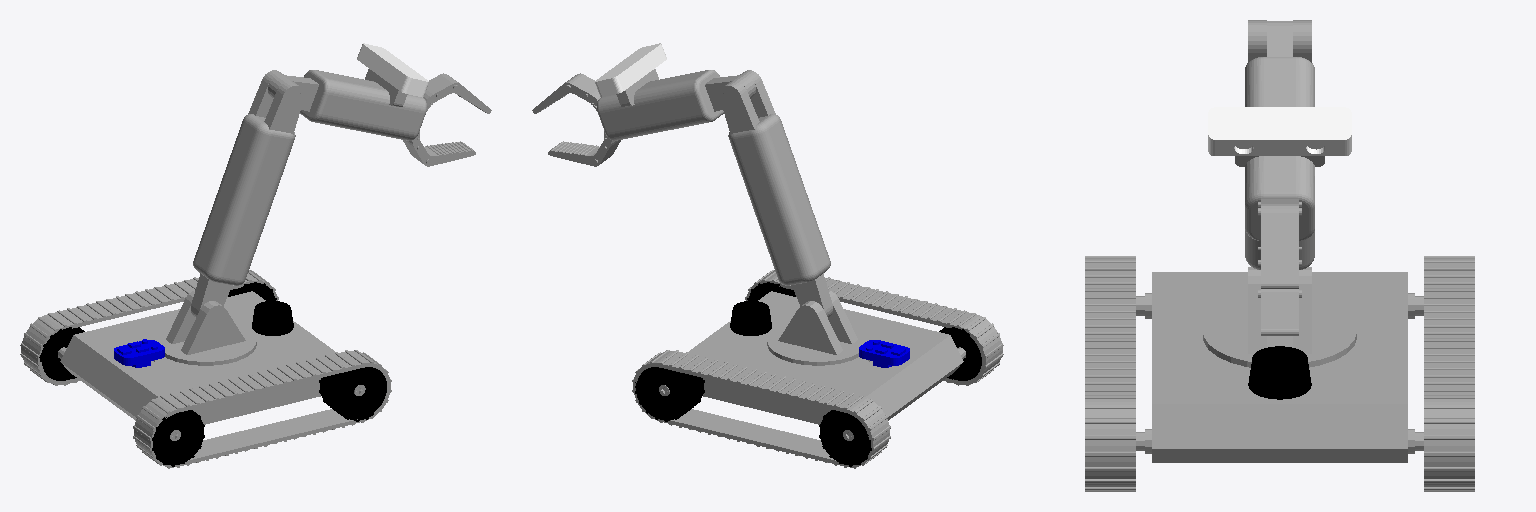
The robot description file, URDF, robot "slam2robot":
<?xml version="1.0" encoding="utf-8"?>
<robot name="slam2robot">

  <!-- Material definitions for RViz -->
  <material name="grey">
    <color rgba="0.7 0.7 0.7 1.0"/>
  </material>
  <material name="black">
    <color rgba="0.0 0.0 0.0 1.0"/>
  </material>
  <material name="white">
    <color rgba="1.0 1.0 1.0 1.0"/>
  </material>
  <material name="blue">
    <color rgba="0.0 0.0 1.0 1.0"/>
  </material>

  <gazebo reference="base_link"><material>Gazebo/Grey</material></gazebo>
  <gazebo reference="wheel1"><material>Gazebo/Black</material></gazebo>
  <gazebo reference="wheel2"><material>Gazebo/Black</material></gazebo>
  <gazebo reference="wheel3"><material>Gazebo/Black</material></gazebo>
  <gazebo reference="wheel4"><material>Gazebo/Black</material></gazebo>
  <gazebo reference="link1"><material>Gazebo/Grey</material></gazebo>
  <gazebo reference="link2"><material>Gazebo/Grey</material></gazebo>
  <gazebo reference="camera"><material>Gazebo/White</material></gazebo>
  <gazebo reference="imu"><material>Gazebo/Blue</material></gazebo>
  <gazebo reference="lidar"><material>Gazebo/Black</material></gazebo>

  <link name="base_link">
    <inertial>
      <origin xyz="0.00014506 0 0.0071913" rpy="0 0 0" />
      <mass value="2.8289" />
      <inertia ixx="0.010256" ixy="0" ixz="0" iyy="0.016675" iyz="0" izz="0.025413" />
    </inertial>
    <visual>
      <geometry><mesh filename="package://slam2robot/meshes/base_link.STL" /></geometry>
      <material name="grey"/>
    </visual>
    <collision>
      <geometry><mesh filename="package://slam2robot/meshes/base_link.STL" /></geometry>
    </collision>
  </link>

  <link name="wheel1">
    <inertial>
      <origin xyz="0 0 0" rpy="0 0 0" />
      <mass value="0.1279" />
      <inertia ixx="6.0677E-05" ixy="0" ixz="0" iyy="6.0677E-05" iyz="0" izz="9.3018E-05" />
    </inertial>
    <visual><geometry><mesh filename="package://slam2robot/meshes/wheel1.STL" /></geometry><material name="black"/></visual>
    <collision>
      <origin xyz="0 0 0" rpy="0 0 0" />
      <geometry><cylinder radius="0.05" length="0.04"/></geometry>
    </collision>
  </link>
  <joint name="w1" type="continuous">
    <origin xyz="0.12464 0.132 0" rpy="1.5708 0 0" />
    <parent link="base_link" /><child link="wheel1" /><axis xyz="0 0 -1" />
  </joint>

  <link name="wheel2">
    <inertial>
      <origin xyz="0 0 0" rpy="0 0 0" />
      <mass value="0.1279" />
      <inertia ixx="6.0677E-05" ixy="0" ixz="0" iyy="6.0677E-05" iyz="0" izz="9.3018E-05" />
    </inertial>
    <visual><geometry><mesh filename="package://slam2robot/meshes/wheel2.STL" /></geometry><material name="black"/></visual>
    <collision>
      <origin xyz="0 0 0" rpy="0 0 0" />
      <geometry><cylinder radius="0.05" length="0.04"/></geometry>
    </collision>
  </link>
  <joint name="w2" type="continuous">
    <origin xyz="-0.12464 0.132 0" rpy="1.5708 0 0" />
    <parent link="base_link" /><child link="wheel2" /><axis xyz="0 0 -1" />
  </joint>

  <link name="wheel3">
    <inertial>
      <origin xyz="0 0 0" rpy="0 0 0" />
      <mass value="0.1279" />
      <inertia ixx="6.0677E-05" ixy="0" ixz="0" iyy="6.0677E-05" iyz="0" izz="9.3018E-05" />
    </inertial>
    <visual><geometry><mesh filename="package://slam2robot/meshes/wheel3.STL" /></geometry><material name="black"/></visual>
    <collision>
      <origin xyz="0 0 0" rpy="0 0 0" />
      <geometry><cylinder radius="0.05" length="0.04"/></geometry>
    </collision>
  </link>
  <joint name="w3" type="continuous">
    <origin xyz="0.12464 -0.132 0" rpy="1.5708 0 3.1416" />
    <parent link="base_link" /><child link="wheel3" /><axis xyz="0 0 1" />
  </joint>

  <link name="wheel4">
    <inertial>
      <origin xyz="0 0 0" rpy="0 0 0" />
      <mass value="0.1279" />
      <inertia ixx="6.0677E-05" ixy="0" ixz="0" iyy="6.0677E-05" iyz="0" izz="9.3018E-05" />
    </inertial>
    <visual><geometry><mesh filename="package://slam2robot/meshes/wheel4.STL" /></geometry><material name="black"/></visual>
    <collision>
      <origin xyz="0 0 0" rpy="0 0 0" />
      <geometry><cylinder radius="0.05" length="0.04"/></geometry>
    </collision>
  </link>
  <joint name="w4" type="continuous">
    <origin xyz="-0.12464 -0.132 0" rpy="1.5708 0 3.1416" />
    <parent link="base_link" /><child link="wheel4" /><axis xyz="0 0 1" />
  </joint>

  <link name="track1"><visual><geometry><mesh filename="package://slam2robot/meshes/track1.STL" /></geometry><material name="grey"/></visual></link>
  <joint name="t1" type="fixed"><origin xyz="0.00035 0.132 0" rpy="0 0 0" /><parent link="base_link" /><child link="track1" /></joint>

  <link name="track2"><visual><geometry><mesh filename="package://slam2robot/meshes/track2.STL" /></geometry><material name="grey"/></visual></link>
  <joint name="t2" type="fixed"><origin xyz="0.00035 -0.132 0" rpy="0 0 0" /><parent link="base_link" /><child link="track2" /></joint>

  <link name="link1">
    <inertial>
      <origin xyz="0.13921 0 0" rpy="0 0 0" />
      <mass value="0.65479" />
      <inertia ixx="0.000283" ixy="0" ixz="0" iyy="0.00334" iyz="0" izz="0.00333" />
    </inertial>
    <visual><geometry><mesh filename="package://slam2robot/meshes/link1.STL" /></geometry><material name="grey"/></visual>
    <collision><geometry><mesh filename="package://slam2robot/meshes/link1.STL" /></geometry></collision>
  </link>
  <joint name="l1" type="revolute">
    <origin xyz="0 0 0.075717" rpy="1.5708 -1.189 0" />
    <parent link="base_link" />
    <child link="link1" />
    <axis xyz="0 0 1" />
    <limit lower="-0.4" upper="1.57" effort="15" velocity="3" />
    <dynamics damping="1.0" friction="1.0"/>
  </joint>

  <link name="link2">
    <inertial>
      <origin xyz="0.12402 -0.00411 0" rpy="0 0 0" />
      <mass value="0.56752" />
      <inertia ixx="0.00030" ixy="0" ixz="0" iyy="0.00242" iyz="0" izz="0.00250" />
    </inertial>
    <visual><geometry><mesh filename="package://slam2robot/meshes/link2.STL" /></geometry><material name="grey"/></visual>
    <collision><geometry><mesh filename="package://slam2robot/meshes/link2.STL" /></geometry></collision>
  </link>
  <joint name="l2" type="revolute">
    <origin xyz="0.28 0 0" rpy="0 0 -1.5708" />
    <parent link="link1" />
    <child link="link2" />
    <axis xyz="0 0 1" />
    <limit lower="-0.4" upper="1.57" effort="20" velocity="2" />
    <dynamics damping="8.0" friction="1.0"/> 
  </joint>

  <link name="camera">
    <inertial>
      <origin xyz="0 0 0" rpy="0 0 0" /><mass value="0.073" />
      <inertia ixx="8.20E-05" ixy="0" ixz="0" iyy="8.96E-06" iyz="0" izz="7.81E-05" />
    </inertial>
    <visual><geometry><mesh filename="package://slam2robot/meshes/camera.STL" /></geometry><material name="white"/></visual>
    <collision><geometry><mesh filename="package://slam2robot/meshes/camera.STL" /></geometry></collision>
  </link>
  <joint name="cam_joint" type="fixed">
    <origin xyz="0.14207 0.046599 0" rpy="-1.5708 0 -1.6126" /><parent link="link2" /><child link="camera" />
  </joint>
  <link name="camera_optical"/>
  <joint name="camera_optical_joint" type="fixed">
    <origin xyz="0 0 0" rpy=" 0 -1.5708 0" />
    <parent link="camera" />
    <child link="camera_optical" />
  </joint>

  <link name="imu">
    <inertial>
      <origin xyz="0 0 0" rpy="0 0 0" /><mass value="0.025" />
      <inertia ixx="2.83E-06" ixy="0" ixz="0" iyy="6.05E-06" iyz="0" izz="7.62E-06" />
    </inertial>
    <visual><geometry><mesh filename="package://slam2robot/meshes/imu.STL" /></geometry><material name="blue"/></visual>
    <collision><geometry><mesh filename="package://slam2robot/meshes/imu.STL" /></geometry></collision>
  </link>
  <joint name="imu_joint" type="fixed">
    <origin xyz="-0.090187 0 0.035717" rpy="0 0 0" /><parent link="base_link" /><child link="imu" />
  </joint>

  <link name="lidar">
    <inertial>
      <origin xyz="0 0 0.01" rpy="0 0 0" /><mass value="0.05" />
      <inertia ixx="9.89E-06" ixy="0" ixz="0" iyy="9.89E-06" iyz="0" izz="1.29E-05" />
    </inertial>
    <visual><origin xyz="0 0 -0.02" rpy="0 0 0" /><geometry><mesh filename="package://slam2robot/meshes/lidar.STL" /></geometry><material name="black"/></visual>
    <collision><origin xyz="0 0 -0.02" rpy="0 0 0" /><geometry><mesh filename="package://slam2robot/meshes/lidar.STL" /></geometry></collision>
  </link>
  <joint name="lidar_front_joint" type="fixed">
    <origin xyz="0.090769 0 0.050717" rpy="0 0 0" /><parent link="base_link" /><child link="lidar" />
  </joint>

  <gazebo>
    <plugin name="diff_drive" filename="libgazebo_ros_diff_drive.so">
      <num_wheel_pairs>2</num_wheel_pairs>
      
      <left_joint>w1</left_joint>
      <left_joint>w2</left_joint>
      
      <right_joint>w4</right_joint>
      <right_joint>w3</right_joint>

      <wheel_separation>0.264</wheel_separation>
      <wheel_diameter>0.1</wheel_diameter>
      
      <max_wheel_torque>20</max_wheel_torque>
      <max_wheel_acceleration>1.0</max_wheel_acceleration>
      <publish_odom>true</publish_odom>
      <publish_odom_tf>true</publish_odom_tf>
      <publish_wheel_tf>true</publish_wheel_tf>
      <odometry_frame>odom</odometry_frame>
      <robot_base_frame>base_link</robot_base_frame>
    </plugin>
  </gazebo>

  <gazebo reference="lidar">
    <sensor name="lidar" type="ray">
      <pose>0 0 0.7 0 0 0</pose>
      <always_on>true</always_on>
      <visualize>true</visualize>
      <update_rate>5</update_rate>
      <ray>
        <scan>
          <horizontal>
            <samples>360</samples>
            <resolution>1.000000</resolution>
            <min_angle>0.000000</min_angle>
            <max_angle>6.280000</max_angle>
          </horizontal>
        </scan>
        <range>
          <min>0.120000</min>
          <max>3.5</max>
          <resolution>0.015000</resolution>
        </range>
      </ray>
      <plugin name="scan" filename="libgazebo_ros_ray_sensor.so">
        <ros><remapping>~/out:=scan</remapping></ros>
        <output_type>sensor_msgs/LaserScan</output_type>
        <frame_name>lidar</frame_name>
      </plugin>
    </sensor>
  </gazebo>
  <gazebo reference="camera_optical">
    <sensor name="camera" type="camera">
      <pose>0 0 0 0 0 0</pose>
      <visualize>true</visualize>
      <always_on>true</always_on>
      <update_rate>30.0</update_rate>
      <camera name="head">
        <horizontal_fov>1.3962634</horizontal_fov>
        <image>
          <width>800</width>
          <height>800</height>
          <format>R8G8B8</format>
        </image>
        <clip><near>0.02</near><far>300</far></clip>
      </camera>
      <plugin name="camera_controller" filename="libgazebo_ros_camera.so">
        <cameraName>camera</cameraName>
        <imageTopicName>image_raw</imageTopicName>
        <cameraInfoTopicName>camera_info</cameraInfoTopicName>
        <frameName>camera_optical</frameName>
      </plugin>
    </sensor>
  </gazebo>

  <gazebo reference="imu">
    <sensor name="imu_sensor" type="imu">
      <always_on>true</always_on>
      <update_rate>100</update_rate>
      <plugin name="imu_plugin" filename="libgazebo_ros_imu_sensor.so">
        <ros><remapping>~/out:=imu</remapping></ros>
      </plugin>
    </sensor>
  </gazebo>

  <!-- Joint Trajectory Controller Plugin -->
  <gazebo>
    <plugin name="gazebo_ros_joint_state_publisher" filename="libgazebo_ros_joint_state_publisher.so">
      <update_rate>20</update_rate>
      <joint_name>w1</joint_name>
      <joint_name>w2</joint_name>
      <joint_name>w3</joint_name>
      <joint_name>w4</joint_name>
      <joint_name>l1</joint_name>
      <joint_name>l2</joint_name>
    </plugin>
  </gazebo>

  <gazebo>
    <plugin name="gazebo_ros2_control" filename="libgazebo_ros2_control.so">
      <robotNamespace>/</robotNamespace>
      <parameters>__CONTROLLER_CONFIG_FILE__</parameters>
      <robot_param>robot_description</robot_param>
      <robot_param_node>robot_state_publisher</robot_param_node>
    </plugin>
  </gazebo>

  <!-- ROS 2 Control Configuration -->
  <ros2_control name="GazeboSystem" type="system">
    <hardware>
      <plugin>gazebo_ros2_control/GazeboSystem</plugin>
    </hardware>
    <joint name="l1">
      <command_interface name="position"/>
      <state_interface name="position"/>
      <state_interface name="velocity"/>
    </joint>
    <joint name="l2">
      <command_interface name="position"/>
      <state_interface name="position"/>
      <state_interface name="velocity"/>
    </joint>
  </ros2_control>

</robot>

--- What the picture shows (computed from the rendered views, not written in the file) ---
The picture shows the robot from 3 angles, left to right: view 1: azimuth 30°, elevation 25°; view 2: azimuth 150°, elevation 25°; view 3: azimuth 270°, elevation 25°; orthographic projection.
Robot: slam2robot — 13 links, 12 joints (2 revolute, 4 continuous, 6 fixed); root link base_link; default pose: every joint at zero.
Visible links, largest first — view 1: base_link, link1, link2, track2, track1, wheel3, wheel4, camera, lidar, wheel2, imu; view 2: base_link, link1, link2, track1, track2, wheel1, wheel2, camera, lidar, wheel4, imu; view 3: base_link, link2, track1, track2, camera, lidar, link1.
Link boxes in pixels (box(x1,y1,x2,y2)): base_link: box(58, 290, 365, 440); link1: box(191, 70, 304, 324); link2: box(268, 69, 491, 166); track2: box(133, 350, 391, 468); track1: box(20, 270, 278, 385); wheel3: box(319, 367, 386, 421); wheel4: box(152, 410, 204, 466); camera: box(357, 43, 428, 97); lidar: box(252, 301, 293, 335); wheel2: box(39, 327, 84, 380); imu: box(114, 339, 164, 367); base_link: box(659, 290, 965, 440); link1: box(719, 70, 832, 324); link2: box(532, 69, 755, 166); track1: box(632, 350, 890, 468); track2: box(745, 270, 1003, 385); wheel1: box(635, 367, 704, 421); wheel2: box(819, 410, 871, 466); camera: box(595, 43, 666, 97); lidar: box(730, 301, 771, 335); wheel4: box(939, 327, 981, 380); imu: box(859, 340, 909, 367); base_link: box(1136, 267, 1423, 462); link2: box(1235, 21, 1324, 335); track1: box(1424, 256, 1474, 491); track2: box(1085, 256, 1135, 491); camera: box(1208, 107, 1351, 155); lidar: box(1248, 346, 1311, 399); link1: box(1245, 20, 1314, 269).
Size in the robot's own frame: 0.5414 by 0.304 by 0.3895 metres.
Meshes: 12 distinct files referenced, 12 mesh visuals loaded (12 binary STL).
